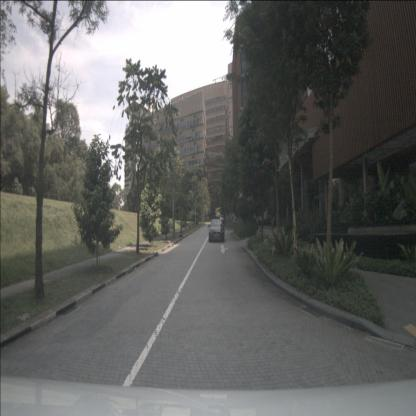vehicle-car: (208, 219, 224, 242), (220, 214, 224, 223)
